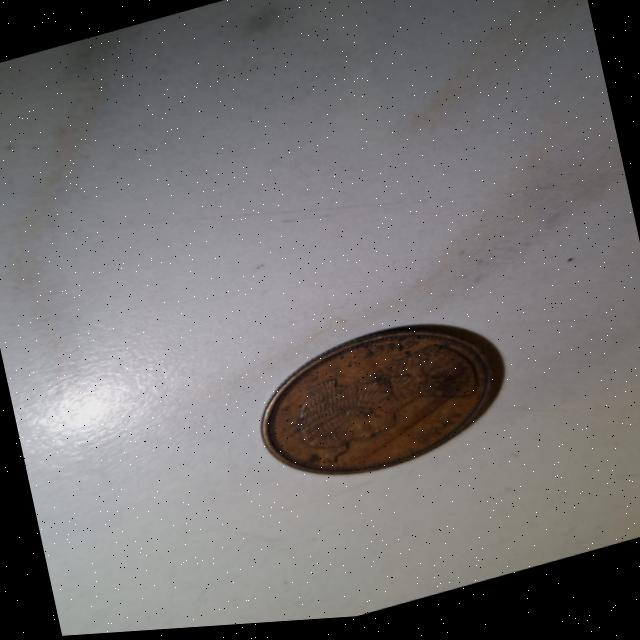Half Pound: (236, 297, 526, 523)
